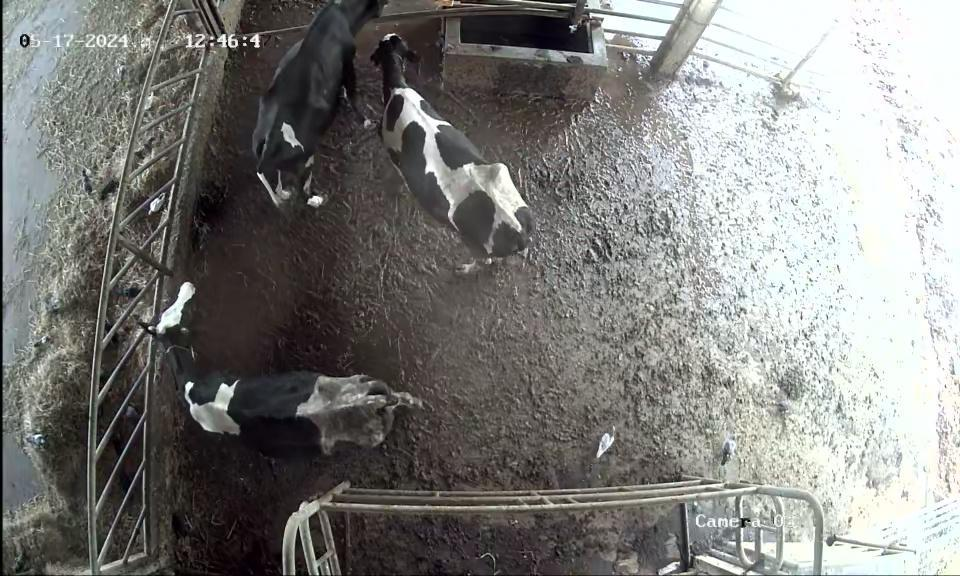stand: (147, 273, 417, 467), (362, 29, 548, 280), (246, 0, 374, 228)
